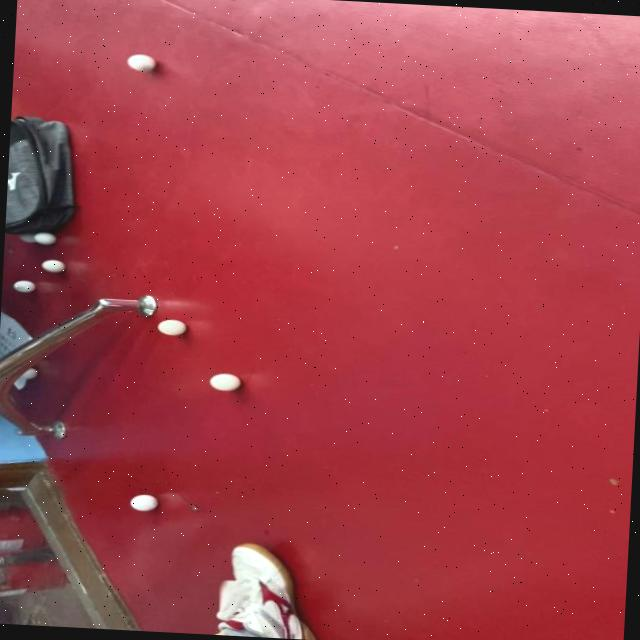ping-pong-ball: (207, 372, 240, 392), (154, 318, 188, 337), (124, 52, 156, 72), (128, 493, 160, 513), (38, 259, 66, 274), (32, 232, 57, 246), (12, 280, 36, 294)
